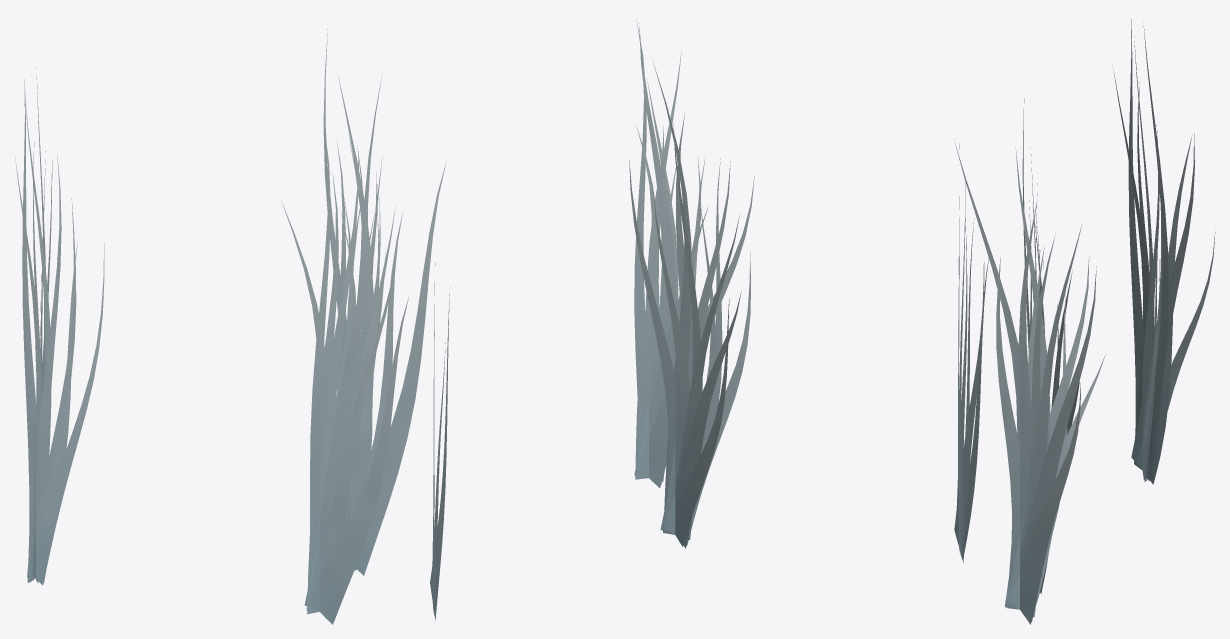
File: mesh-plant-026-mint-fan_LOD0.glb
3 renders of one model, left to right at view 1: azimuth 30°, elevation 25°; view 2: azimuth 150°, elevation 25°; view 3: azimuth 270°, elevation 25°, orthographic. The views are drawn at different scales.
Visible parts, largest first — view 1: geometry_0; view 2: geometry_0; view 3: geometry_0.
Part boxes in pixels (<box>): geometry_0: <box>14,28,450,624</box>; geometry_0: <box>629,17,754,548</box>; geometry_0: <box>954,19,1215,624</box>.
Size of the model in its own units: 1.24 by 1.69 by 1.11.
